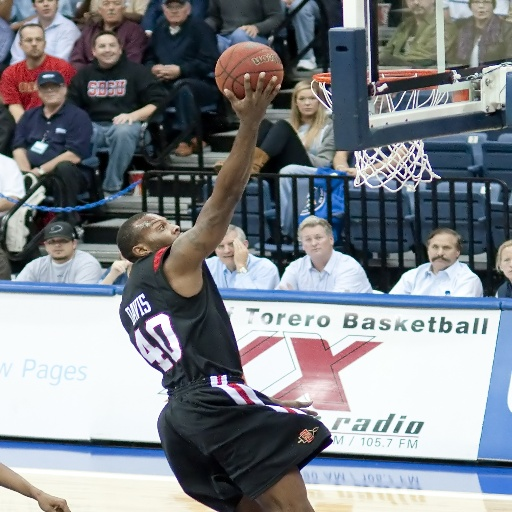hand: (224, 71, 280, 125), (275, 399, 318, 421), (37, 493, 69, 511), (233, 236, 249, 268), (158, 61, 181, 80), (237, 23, 260, 38), (110, 259, 130, 276), (111, 111, 134, 124), (150, 63, 163, 77), (278, 281, 295, 289), (336, 166, 352, 172), (347, 168, 357, 176)
